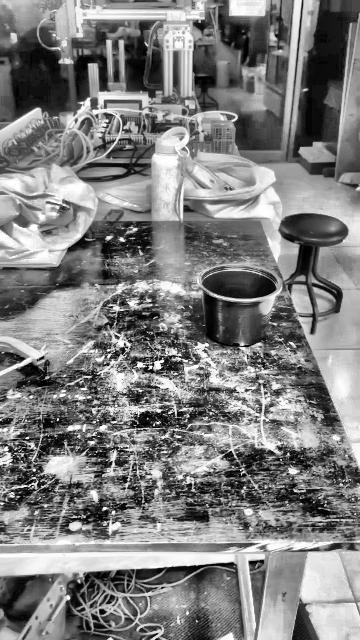pot: (199, 265, 283, 347)
